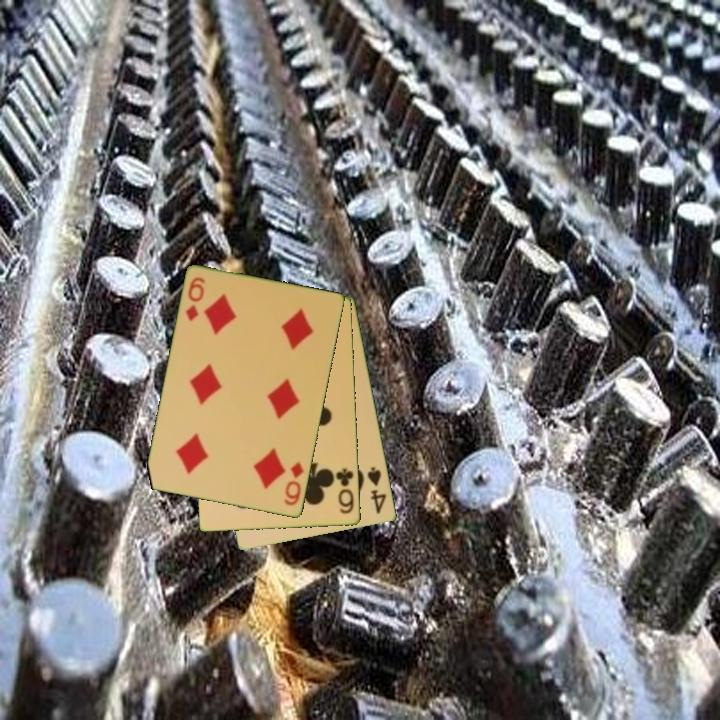4s: (364, 463, 389, 517)
6c: (333, 465, 357, 517)
6d: (182, 274, 208, 325), (281, 459, 307, 509)
